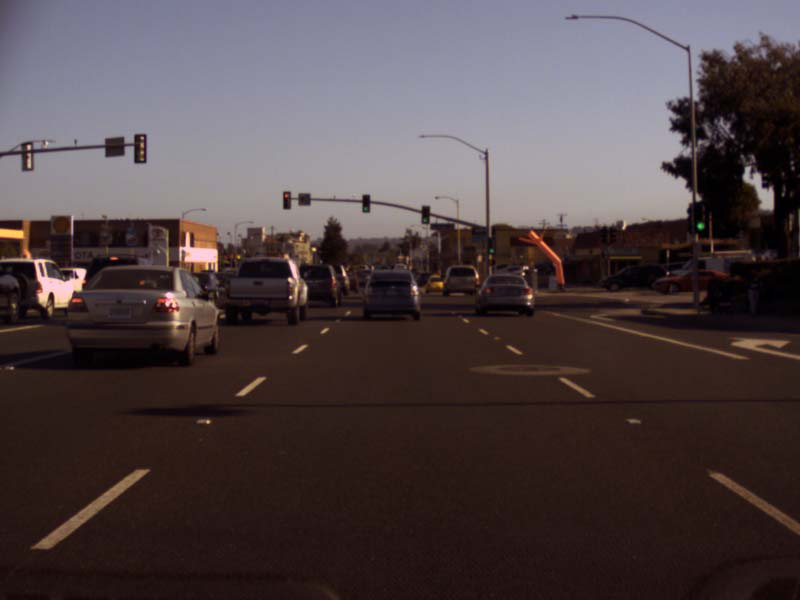Green: (694, 203, 706, 233), (361, 194, 370, 213), (421, 205, 428, 224), (488, 237, 495, 255)
Red: (282, 191, 290, 209)
